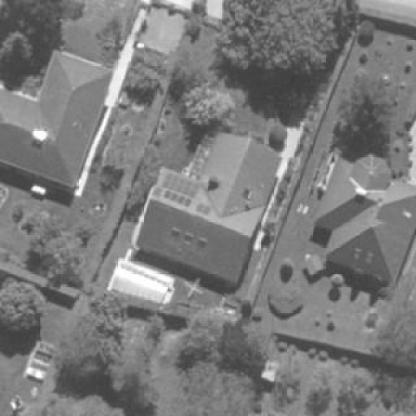solar-pv-panel: (162, 172, 200, 198), (162, 189, 193, 208), (194, 202, 212, 216), (153, 187, 161, 197)
